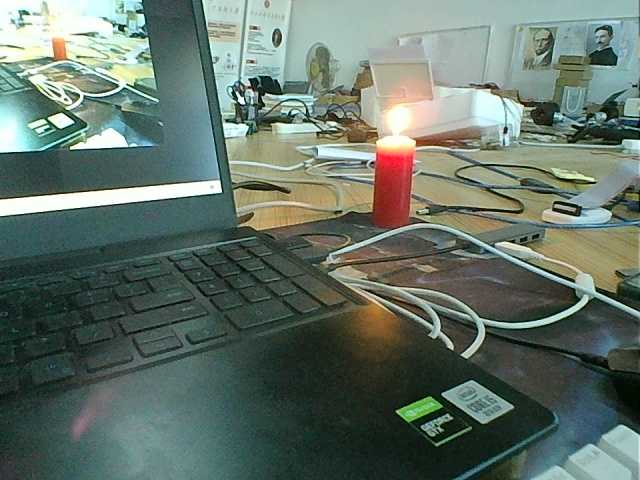candle: (368, 138, 415, 235)
fire: (381, 106, 416, 139)
